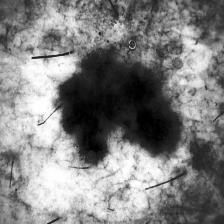Benign Marking or Mole: (58, 58, 177, 159)
